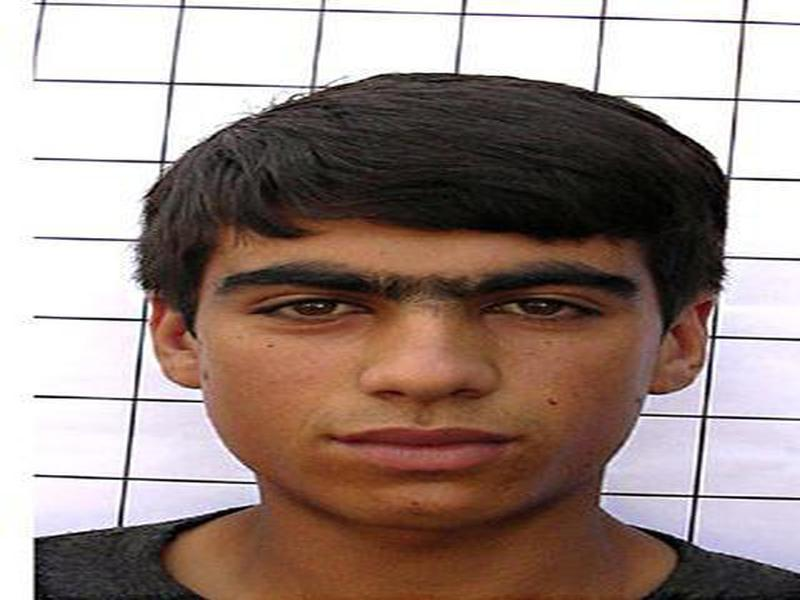without_mask: (187, 187, 655, 538)
